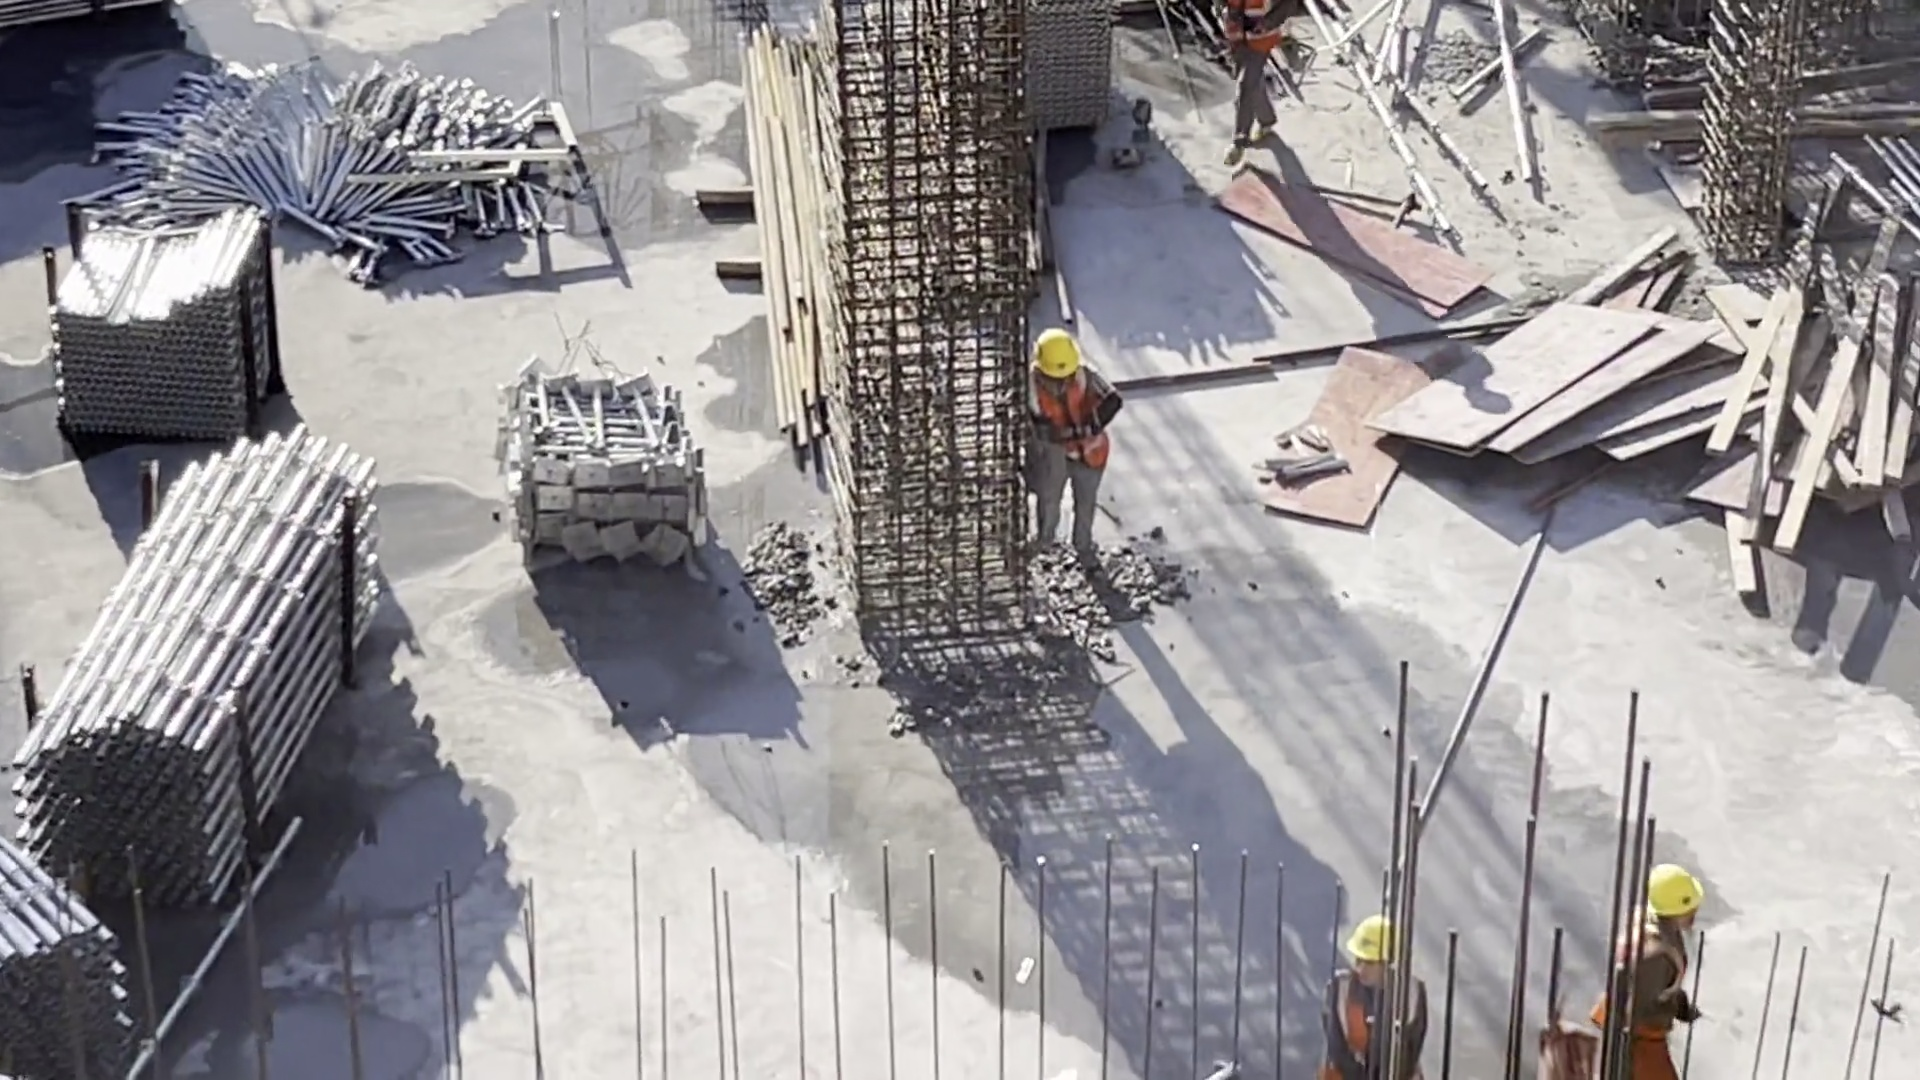board: (1382, 303, 1738, 484)
helmet: (1351, 919, 1426, 975), (1647, 864, 1708, 912), (1037, 328, 1086, 371)
person: (1017, 330, 1125, 589), (1626, 861, 1733, 1080), (1314, 898, 1433, 1080), (1213, 1, 1296, 152)
scaffold: (58, 412, 387, 856), (124, 52, 559, 275), (44, 166, 264, 411), (496, 364, 719, 592), (1, 833, 102, 1067), (988, 12, 1138, 143)
vest: (1324, 964, 1414, 1078), (1606, 925, 1691, 1037), (1027, 365, 1110, 467), (1225, 1, 1284, 55)
wood: (1733, 265, 1905, 559)
